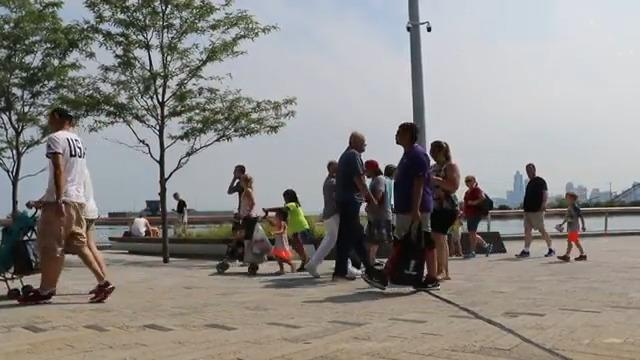no-helmet: (46, 107, 77, 133), (395, 121, 420, 147), (429, 140, 451, 165), (283, 188, 302, 208), (349, 131, 367, 152), (239, 174, 253, 190), (465, 175, 478, 190)
